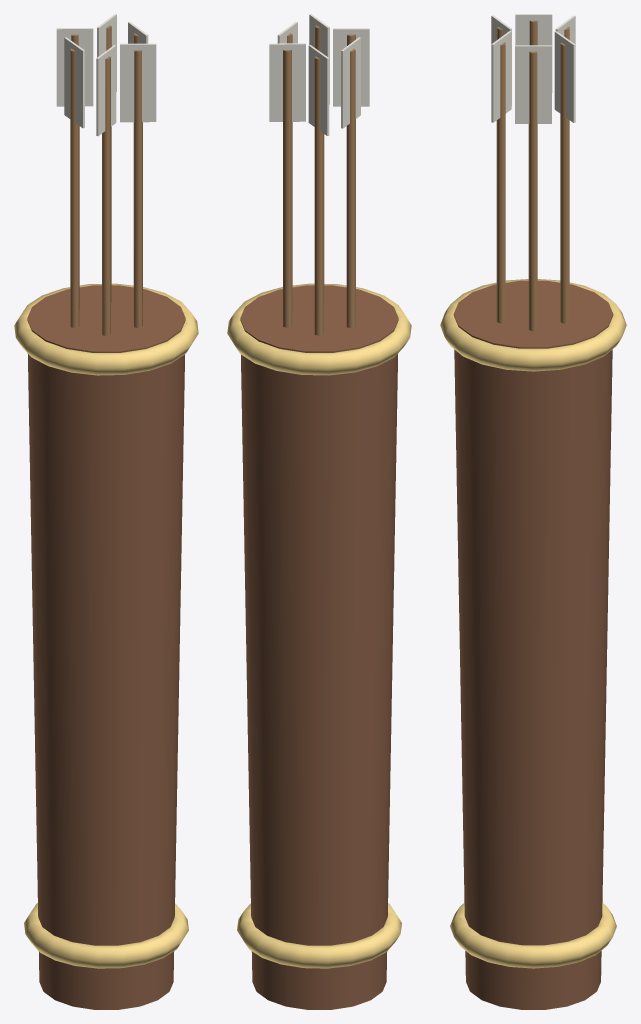
The model's file is faretra.glb.
3 views of the same model, side by side, from view 1: azimuth 30°, elevation 25°; view 2: azimuth 150°, elevation 25°; view 3: azimuth 270°, elevation 25° (orthographic).
Parts seen in each view (by area): view 1: faretra; view 2: faretra; view 3: faretra.
Boxes of the visible parts, x1=… form: faretra: x1=14, y1=14, x2=198, y2=1009; faretra: x1=227, y1=14, x2=411, y2=1009; faretra: x1=440, y1=14, x2=626, y2=1009.
Size of the model in its own units: 0.152 by 0.855 by 0.152.
